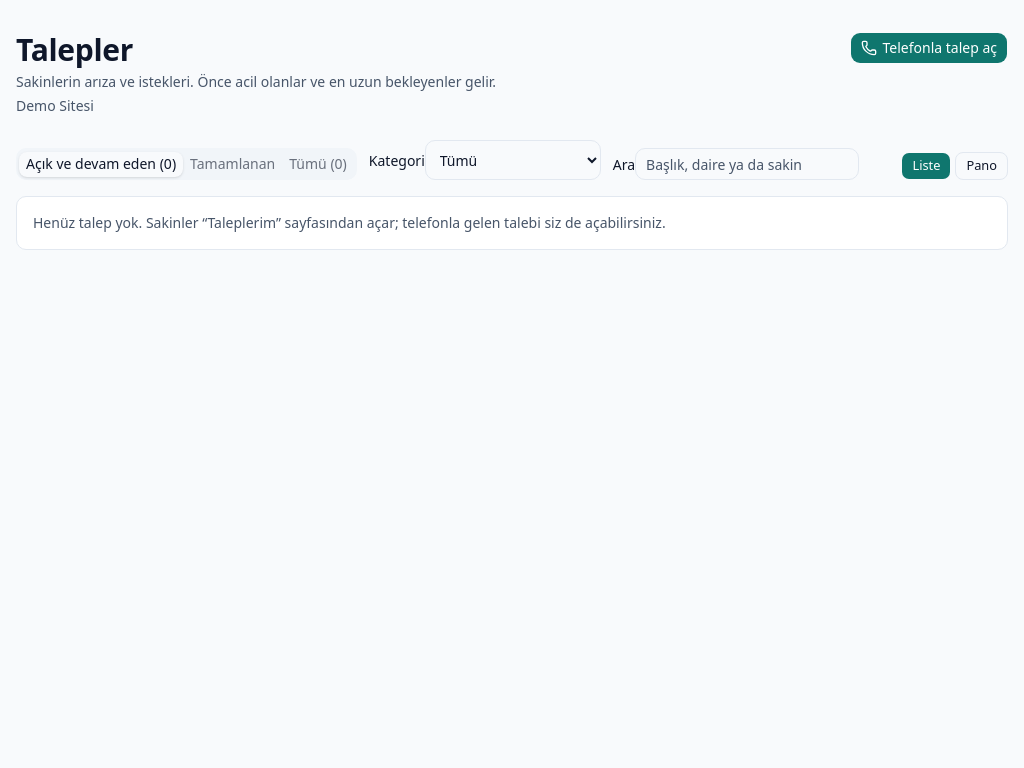
Test: Telefonla talep aç › says so for a unit where nobody lives, and keeps the person list off
Click the button "Telefonla talep aç" at (929, 48), box [850,32,1008,64]
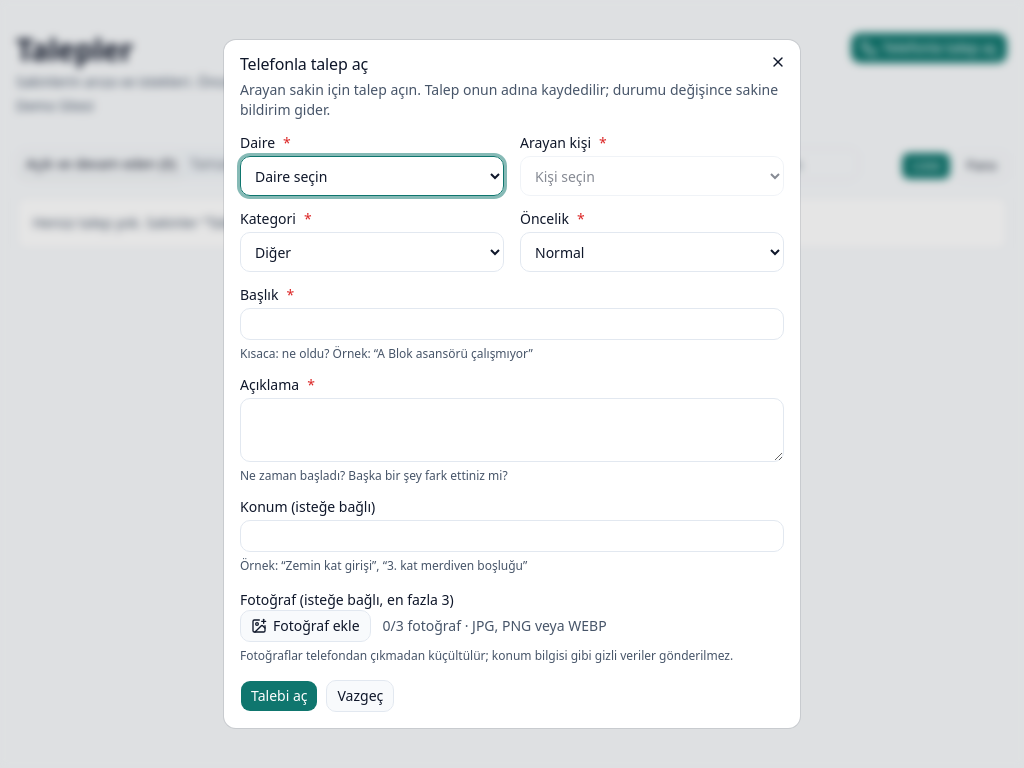
Select "A Blok · 2" in the dropdown labelled "Daire *" at (372, 176), box [240,156,504,196]
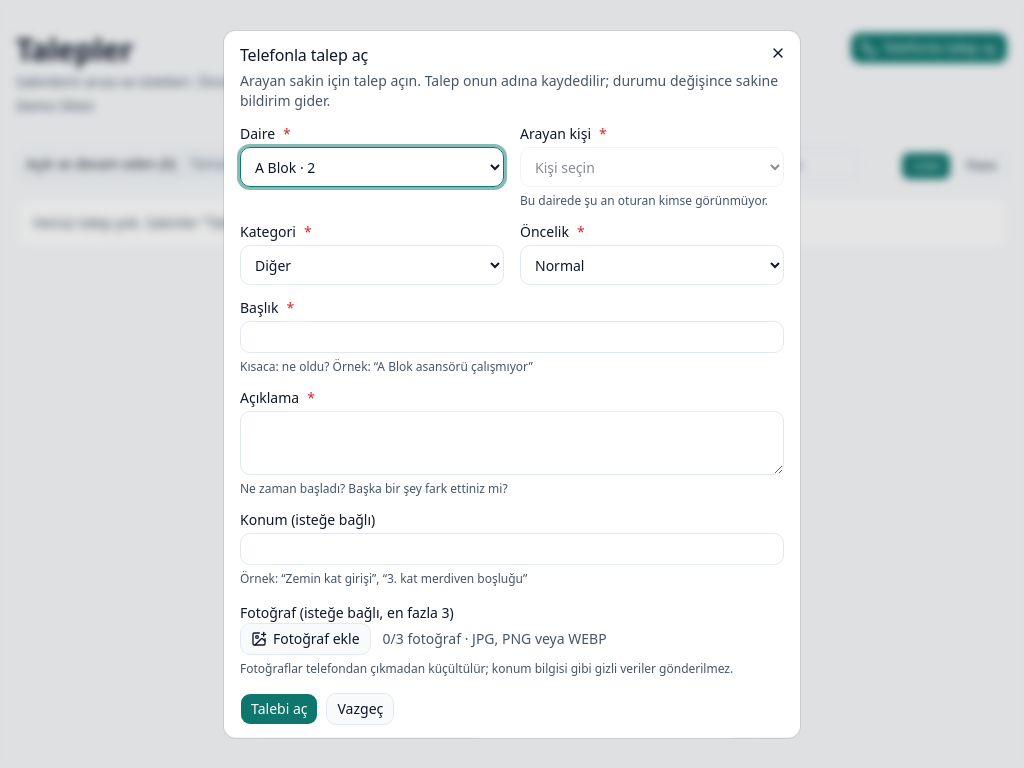
Expected: the dropdown labelled "Arayan kişi *" is disabled, [520,147,784,187]
Expected: the text "Bu dairede şu an oturan kimse görünmüyor." is shown, [520,193,784,209]
